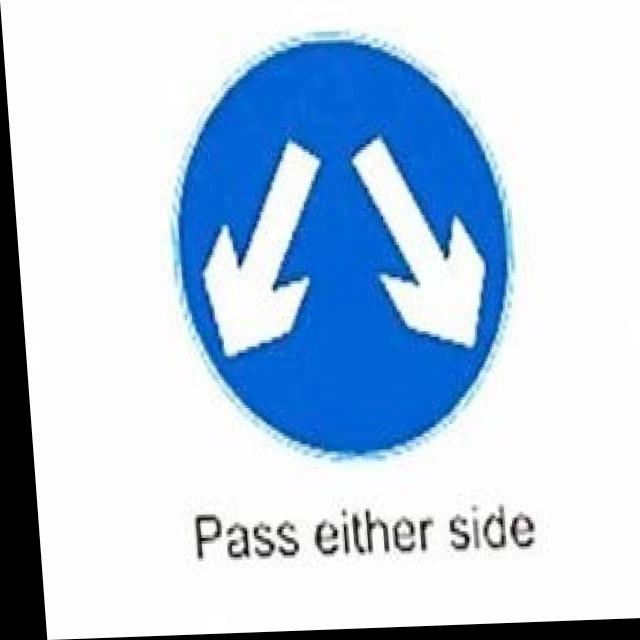PASS_EITHER_SIDE: (156, 27, 522, 468)
